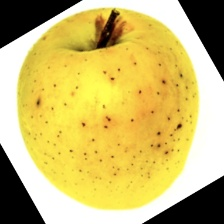apple: (6, 33, 177, 194)
